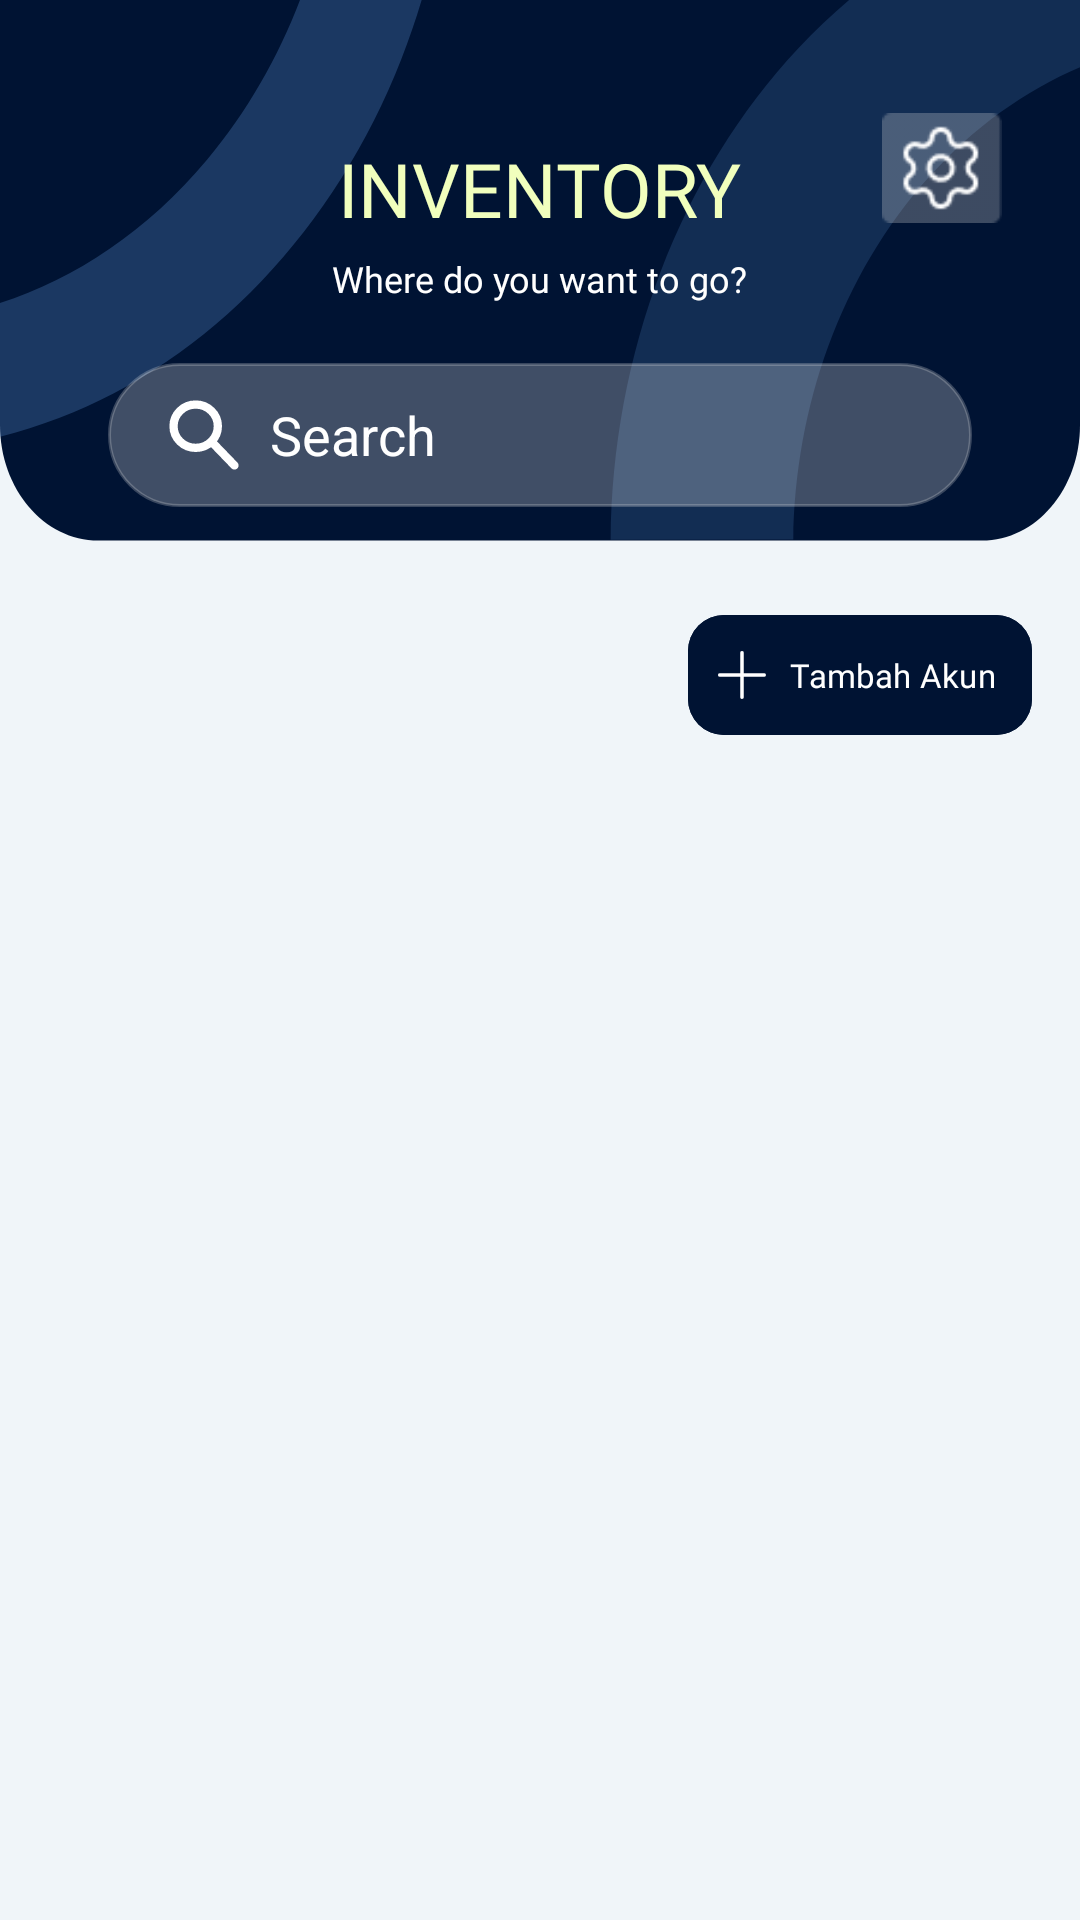

Icon click points for this 1080x1920 phone screenshot, format point (x, y):
setting: point (942, 168)
